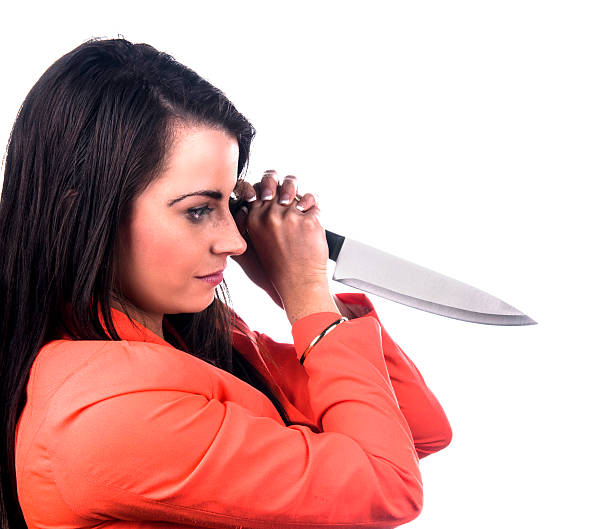knife: (324, 224, 540, 329)
